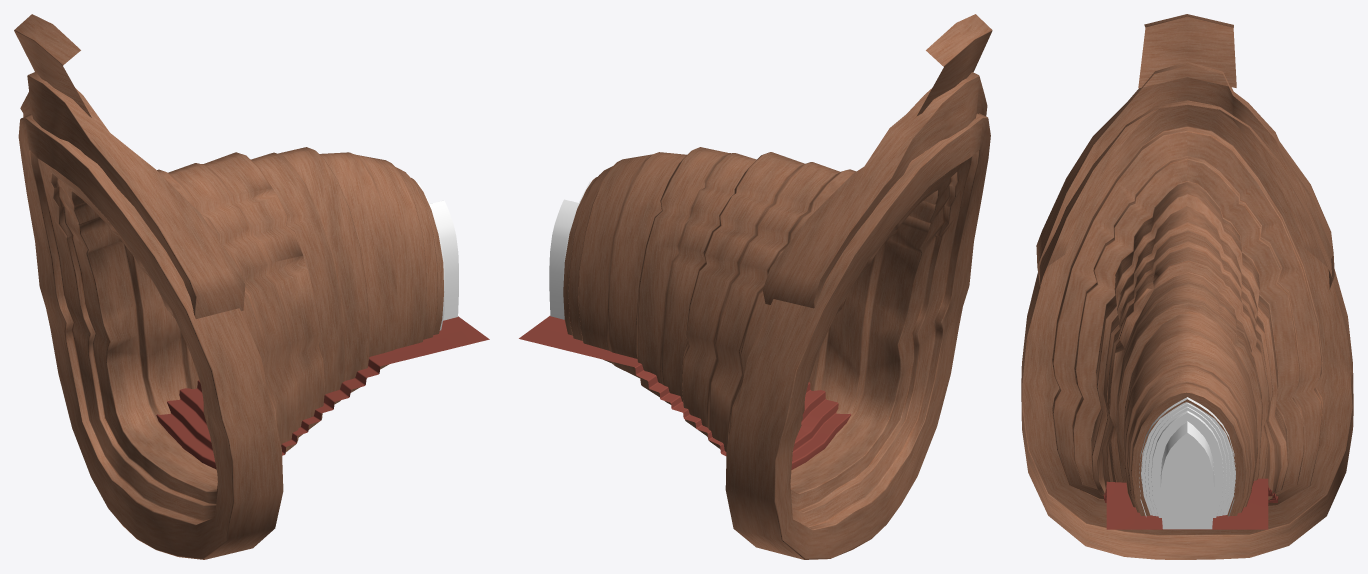
Rendered from Geonosis_HousingEntrance.fbx.
The picture shows the model from 3 angles, left to right: view 1: azimuth 30°, elevation 25°; view 2: azimuth 150°, elevation 25°; view 3: azimuth 270°, elevation 25°; orthographic projection. The views are drawn at different scales.
Parts seen in each view (by area): view 1: Geonosis_Housing_Entrance01; view 2: Geonosis_Housing_Entrance01; view 3: Geonosis_Housing_Entrance01.
Part boxes in pixels (left/top/right/bottom): Geonosis_Housing_Entrance01: left=14, top=14, right=489, bottom=559; Geonosis_Housing_Entrance01: left=519, top=14, right=992, bottom=559; Geonosis_Housing_Entrance01: left=1021, top=14, right=1353, bottom=559.
Bounding box in the file's own units: 796 × 996 × 616.
